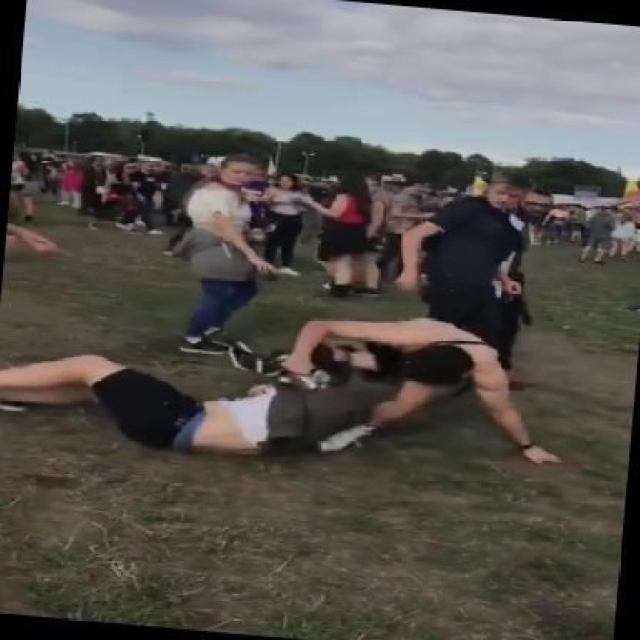fight: (0, 307, 582, 473)
non-fight: (397, 167, 528, 358), (172, 147, 280, 370)
